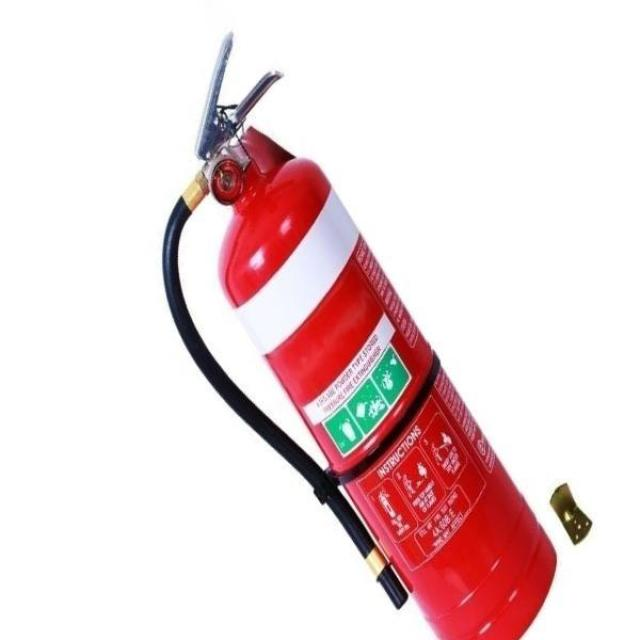fire_extinguisher: (154, 23, 564, 639)
